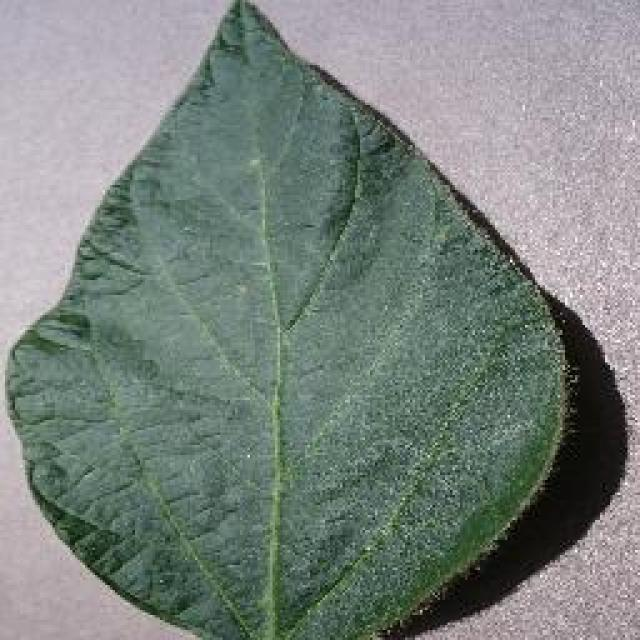healthy: (8, 0, 565, 638)
